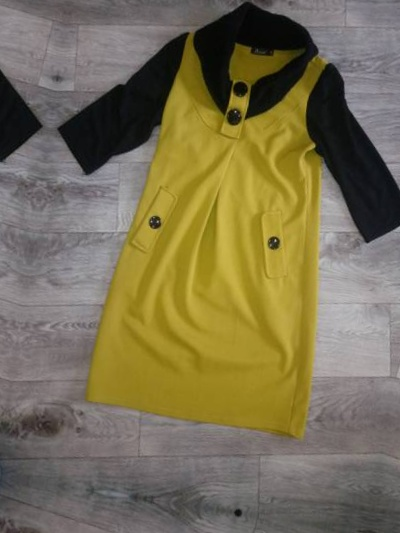Dress: (13, 0, 400, 479), (0, 0, 66, 424), (395, 20, 400, 533), (0, 530, 345, 533)
